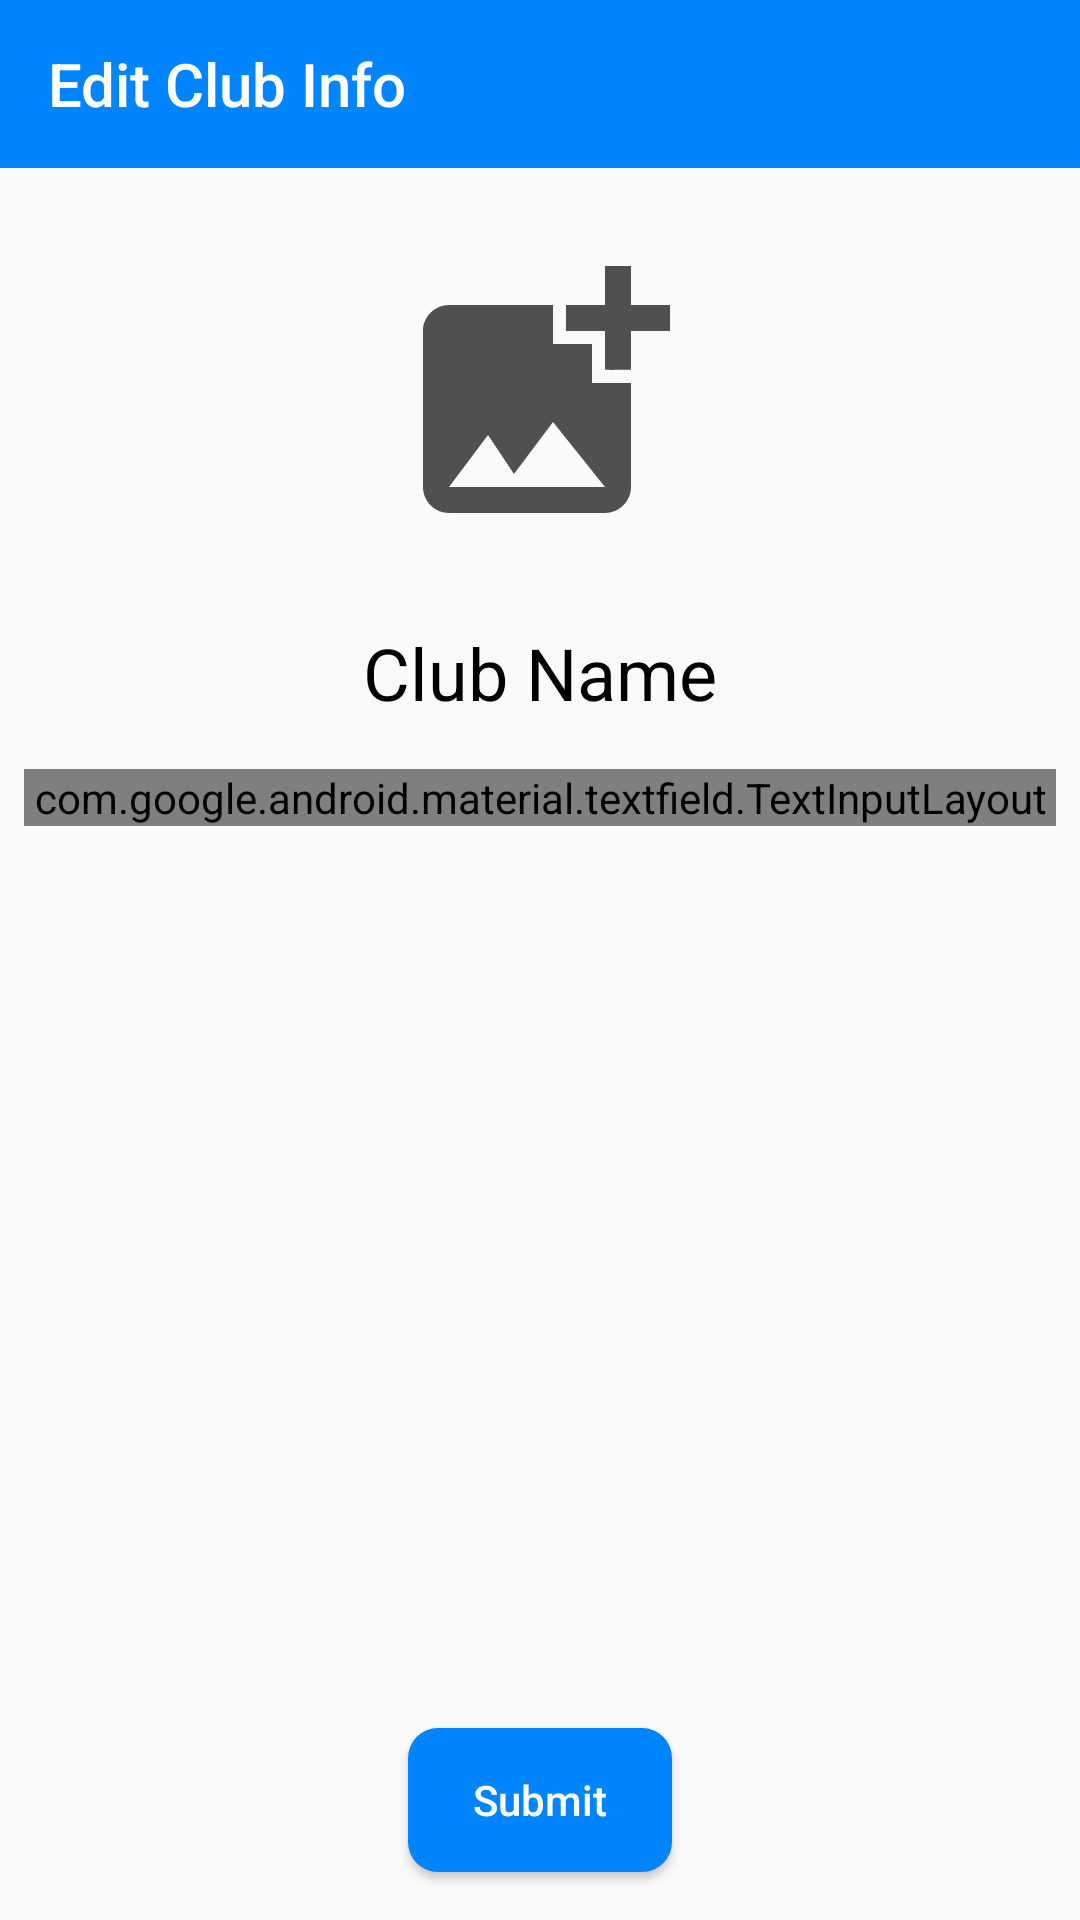

Named icons in this screenshot (1080px×1920px) and their bounding boxes, (left=x1, top=y1, right=x2, bottom=y2):
add photo alternate: (left=423, top=266, right=670, bottom=513)
